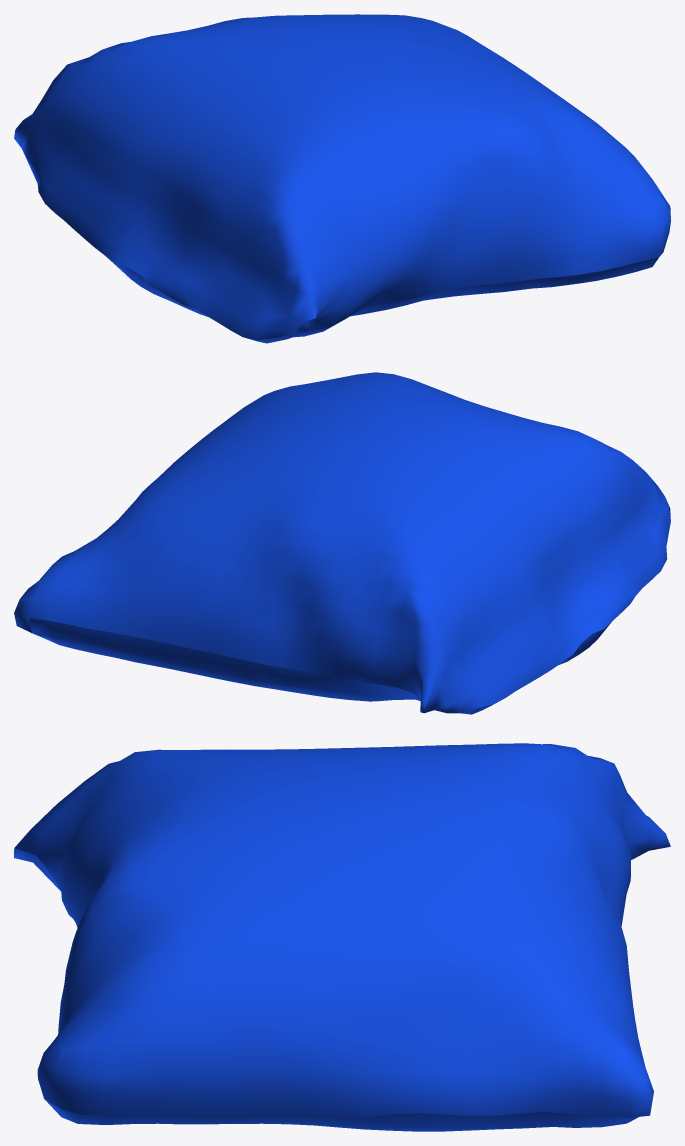
File: SM_Sandbags05.FBX
3 views of the same model, one above another, from view 1: azimuth 30°, elevation 25°; view 2: azimuth 150°, elevation 25°; view 3: azimuth 270°, elevation 25° (orthographic). The views are drawn at different scales.
Visible parts, largest first — view 1: SM_Sandbags05; view 2: SM_Sandbags05; view 3: SM_Sandbags05.
Part boxes in pixels (box(x1,y1,x2,y2)): SM_Sandbags05: box(14, 14, 670, 343); SM_Sandbags05: box(14, 372, 670, 714); SM_Sandbags05: box(14, 743, 670, 1131).
Size of the model in its own units: 93.68 by 42.29 by 99.07.
